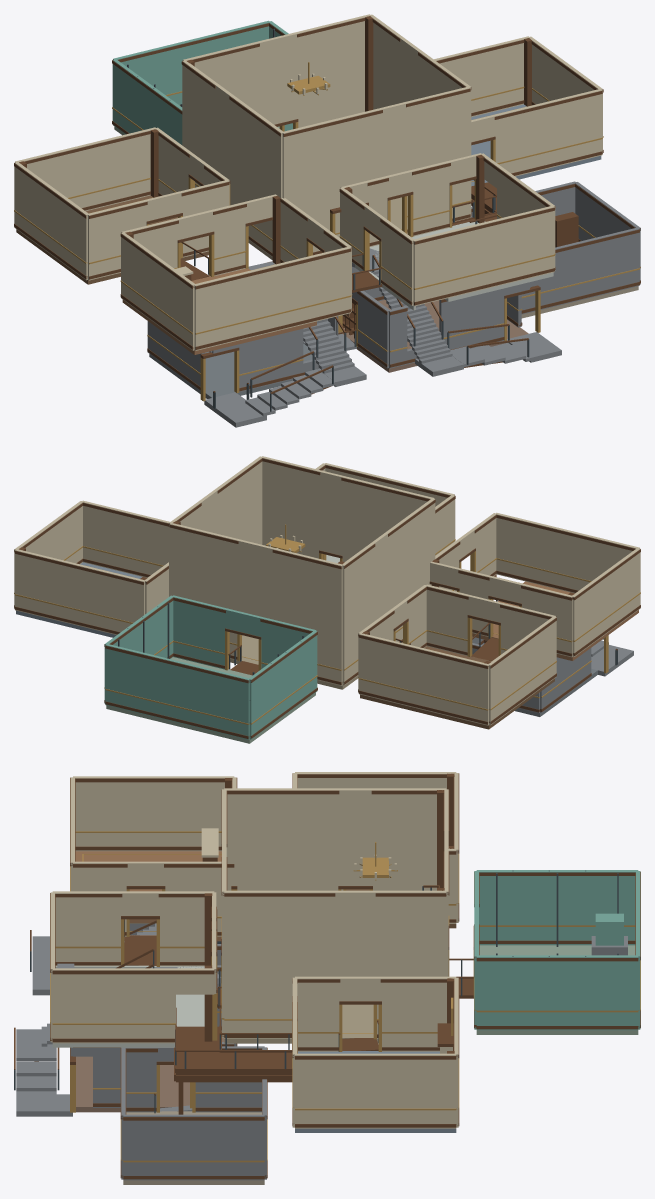
File: Mansion_Environment_Pass01.fbx
3 views of the same model, one above another, from view 1: azimuth 30°, elevation 25°; view 2: azimuth 150°, elevation 25°; view 3: azimuth 270°, elevation 25° (orthographic). The views are drawn at different scales.
Parts seen in each view (by area): view 1: R04_South_Pier_00, R05_South_Pier_00, R01_South_Pier_00, R03_South_Pier_05, R02_North_Pier_00, R01_North_Pier_05, DOOR_04_07, DOOR_05_08, R09_South_Pier_00, R01_West_Pier_00, R01_South_Pier_05, R04_West_Pier_00 (+49 smaller); view 2: R06_North_Pier_00, R02_North_Pier_00, R03_North_Pier_00, R04_South_Pier_00, R01_North_Pier_00, R01_North_Pier_05, R01_South_Pier_05, R03_South_Pier_05, R04_West_Pier_00, R06_West_Pier_00, R01_South_Pier_00, R02_West_Pier_00 (+42 smaller); view 3: R01_East_Pier_00, R01_West_Pier_00, R06_East_Pier_00, R03_East_Pier_00, R04_West_Pier_00, R06_West_Pier_00, R05_East_Pier_00, R09_East_Pier_00, R01_East_Pier_05, R01_West_Pier_05, R05_West_Pier_00, R03_West_Pier_05 (+43 smaller).
Part boxes in pixels (x1,y1,x2,y2): R04_South_Pier_00: [194, 247, 350, 350]; R05_South_Pier_00: [413, 205, 554, 306]; R01_South_Pier_00: [282, 108, 382, 252]; R03_South_Pier_05: [493, 89, 602, 176]; R02_North_Pier_00: [15, 127, 156, 211]; R01_North_Pier_05: [295, 14, 370, 127]; DOOR_04_07: [204, 261, 366, 427]; DOOR_05_08: [352, 205, 561, 376]; R09_South_Pier_00: [521, 228, 639, 314]; R01_West_Pier_00: [230, 95, 282, 258]; R01_South_Pier_05: [404, 87, 470, 233]; R04_West_Pier_00: [121, 232, 194, 350]; R06_North_Pier_00: [105, 643, 249, 739]; R02_North_Pier_00: [359, 633, 489, 725]; R03_North_Pier_00: [15, 549, 145, 634]; R04_South_Pier_00: [496, 512, 639, 593]; R01_North_Pier_00: [273, 548, 342, 685]; R01_North_Pier_05: [169, 523, 239, 660]; R01_South_Pier_05: [262, 456, 321, 558]; R03_South_Pier_05: [81, 500, 169, 577]; R04_West_Pier_00: [571, 548, 640, 656]; R06_West_Pier_00: [249, 631, 317, 739]; R01_South_Pier_00: [341, 476, 434, 561]; R02_West_Pier_00: [488, 616, 556, 725]; R01_East_Pier_00: [224, 890, 335, 1038]; R01_West_Pier_00: [224, 788, 339, 890]; R06_East_Pier_00: [476, 955, 638, 1030]; R03_East_Pier_00: [295, 1053, 456, 1128]; R04_West_Pier_00: [73, 776, 234, 851]; R06_West_Pier_00: [476, 870, 638, 945]; R05_East_Pier_00: [52, 968, 214, 1043]; R09_East_Pier_00: [123, 1114, 264, 1180]; R01_East_Pier_05: [375, 890, 446, 1038]; R01_West_Pier_05: [371, 788, 446, 890]; R05_West_Pier_00: [52, 891, 122, 966]; R03_West_Pier_05: [380, 976, 456, 1051].
Size of what is drawn, in the model's own units: 3328 by 1255 by 3106.
